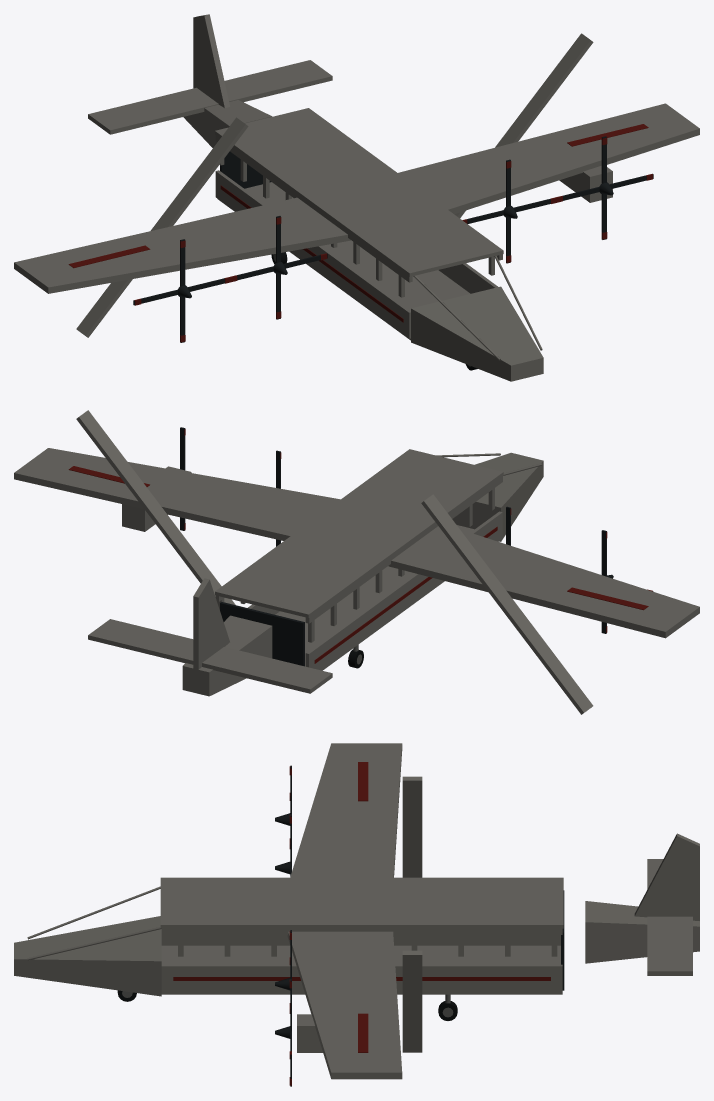
3 views of the same model, one above another, from view 1: azimuth 30°, elevation 25°; view 2: azimuth 150°, elevation 25°; view 3: azimuth 270°, elevation 25° (orthographic). The views are drawn at different scales.
Visible parts, largest first — view 1: troop-plane-painted, transport-roof-painted, flap--1-painted, flap-1-painted, propeller-1-11-painted, propeller--1-11-painted, propeller--1-6-painted, propeller-1-6-painted, transport-ramp-painted; view 2: troop-plane-painted, transport-roof-painted, flap--1-painted, flap-1-painted, transport-ramp-painted; view 3: troop-plane-painted, transport-roof-painted, flap-1-painted, flap--1-painted.
Boxes of the visible parts, x1,y1,x2,y2 form: troop-plane-painted: (14,14,699,381); transport-roof-painted: (215,108,503,297); flap--1-painted: (76,117,248,337); flap-1-painted: (454,33,593,218); propeller-1-11-painted: (556,136,653,239); propeller--1-11-painted: (133,239,231,342); propeller--1-6-painted: (230,216,327,319); propeller-1-6-painted: (462,159,557,263); transport-ramp-painted: (220,151,271,188); troop-plane-painted: (14,448,699,696); transport-roof-painted: (215,449,503,642); flap--1-painted: (421,494,593,714); flap-1-painted: (76,410,235,605); transport-ramp-painted: (220,602,304,666); troop-plane-painted: (14,743,699,1079); transport-roof-painted: (160,877,563,956); flap-1-painted: (402,950,422,1052); flap--1-painted: (402,776,422,877).
Bounding box in the file's own units: 179 × 46.12 × 158.
